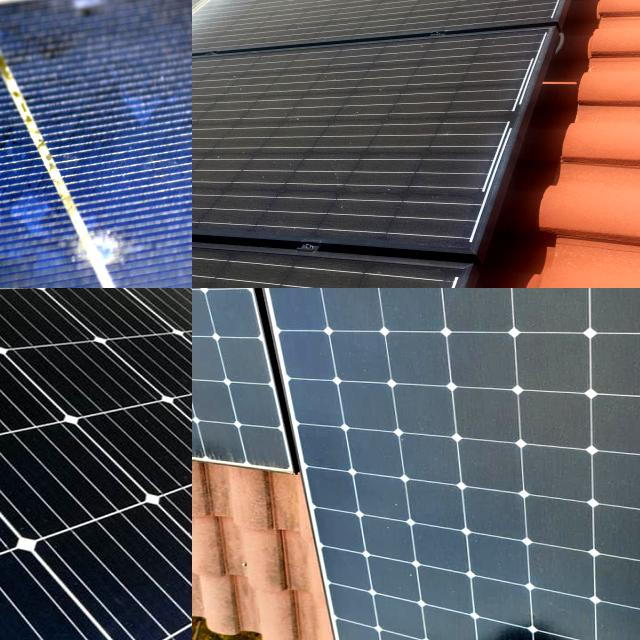crack: (0, 288, 192, 640)
dust: (282, 288, 450, 463), (263, 136, 493, 234), (347, 495, 488, 640), (594, 288, 640, 640), (530, 344, 588, 497), (246, 288, 494, 323), (531, 531, 589, 640), (192, 140, 270, 211), (524, 288, 587, 351), (512, 288, 584, 318)
shadow: (51, 205, 170, 288)
